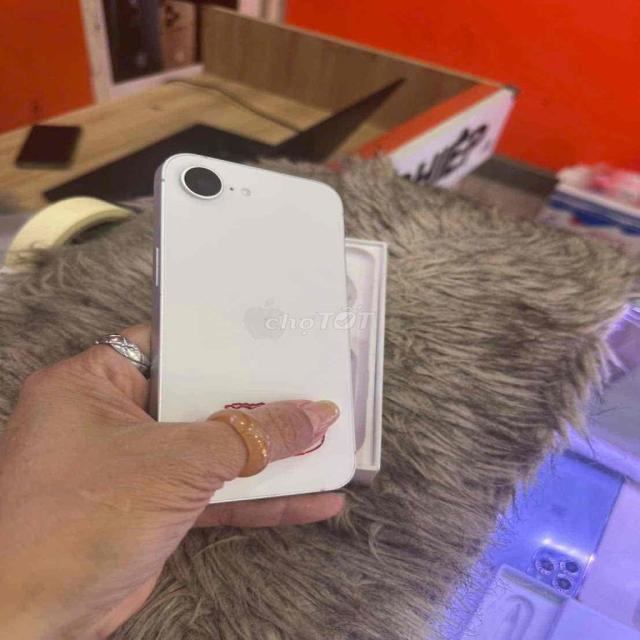gen_16: (149, 154, 355, 502)
